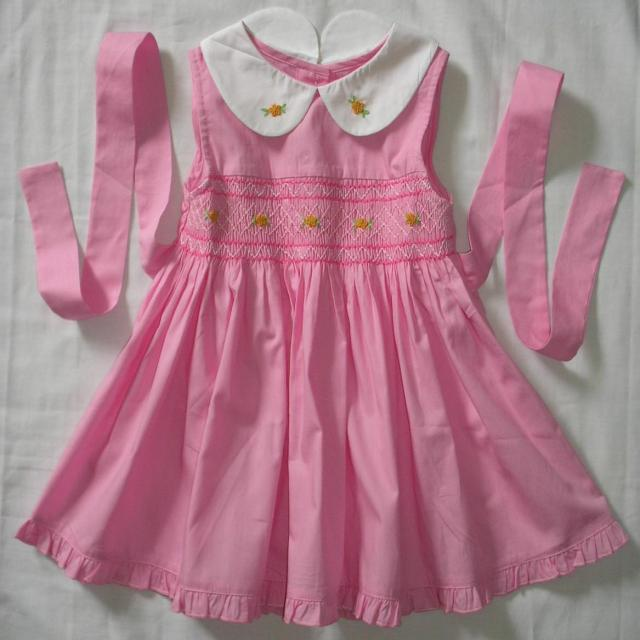Dress: (177, 8, 464, 628)
